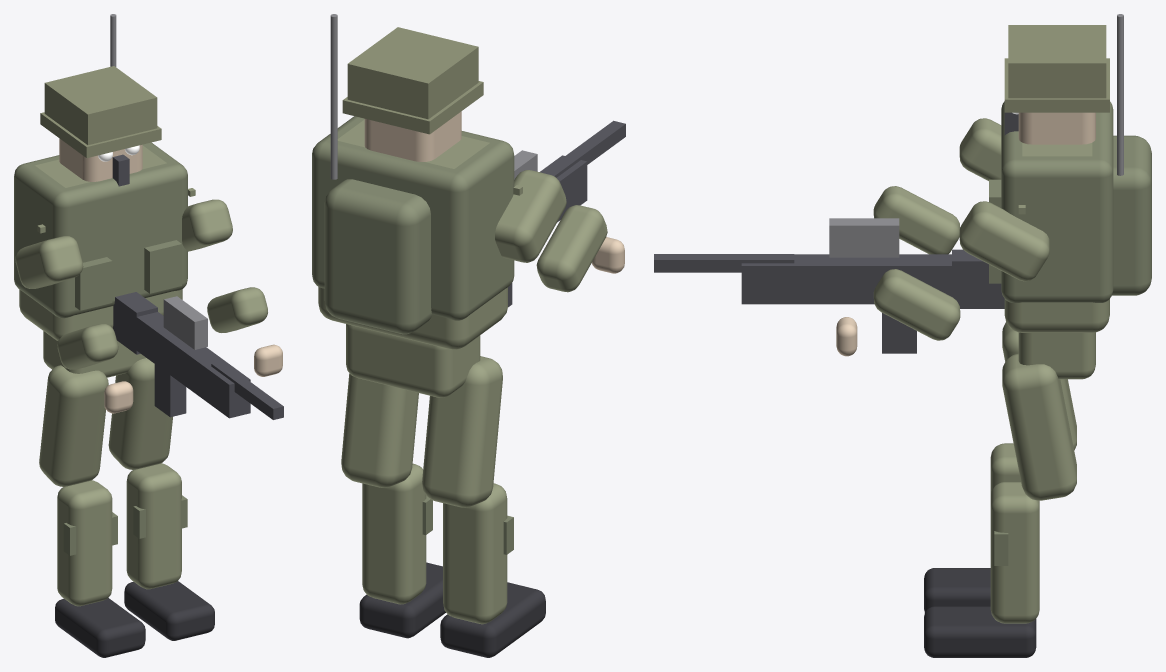
Rendered from npc_soldier.glb.
The picture shows the model from 3 angles, left to right: view 1: azimuth 30°, elevation 25°; view 2: azimuth 150°, elevation 25°; view 3: azimuth 270°, elevation 25°; orthographic projection. The views are drawn at different scales.
Parts seen in each view (by area): view 1: vest_mesh, thigh_l, helmet_top, shin_r, shin_l, rifle_body, thigh_r, foot_r, foot_l, torso_mesh, upper_arm_l, forearm_l (+16 smaller); view 2: vest_mesh, pack_body, thigh_l, helmet_top, shin_l, shin_r, thigh_r, pelvis_mesh, torso_mesh, upper_arm_l, foot_l, forearm_l (+8 smaller); view 3: vest_mesh, rifle_body, thigh_r, helmet_top, shin_r, pack_body, foot_r, upper_arm_r, torso_mesh, forearm_r, forearm_l, pelvis_mesh (+12 smaller).
Boxes of the visible parts, x1,y1,x2,y2 form: vest_mesh: (14, 142, 187, 318); thigh_l: (39, 365, 108, 486); helmet_top: (44, 66, 157, 144); shin_r: (126, 463, 181, 589); shin_l: (57, 480, 112, 606); rifle_body: (113, 303, 250, 418); thigh_r: (108, 358, 172, 469); foot_r: (124, 581, 214, 640); foot_l: (55, 598, 145, 657); torso_mesh: (19, 145, 182, 340); upper_arm_l: (15, 236, 83, 288); forearm_l: (57, 324, 118, 369); vest_mesh: (312, 116, 514, 320); pack_body: (324, 179, 431, 334); thigh_l: (422, 356, 502, 507); helmet_top: (347, 27, 478, 119); shin_l: (443, 483, 507, 624); shin_r: (362, 463, 426, 604); thigh_r: (341, 373, 418, 487); pelvis_mesh: (346, 324, 480, 397); torso_mesh: (318, 119, 507, 349); upper_arm_l: (495, 170, 566, 262); foot_l: (440, 582, 545, 657); forearm_l: (536, 205, 607, 292); vest_mesh: (1001, 101, 1113, 302); rifle_body: (741, 254, 1004, 304); thigh_r: (1002, 353, 1076, 500); helmet_top: (1008, 25, 1106, 98); shin_r: (990, 482, 1039, 623); pack_body: (1112, 135, 1151, 295); foot_r: (924, 606, 1036, 657); upper_arm_r: (959, 201, 1049, 281); torso_mesh: (1004, 143, 1109, 332); forearm_r: (873, 269, 960, 340); forearm_l: (873, 186, 960, 254); pelvis_mesh: (1018, 332, 1095, 379).
Bounding box in the file's own units: 0.7 × 2 × 1.42.
